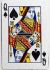queen: (1, 1, 48, 69)
